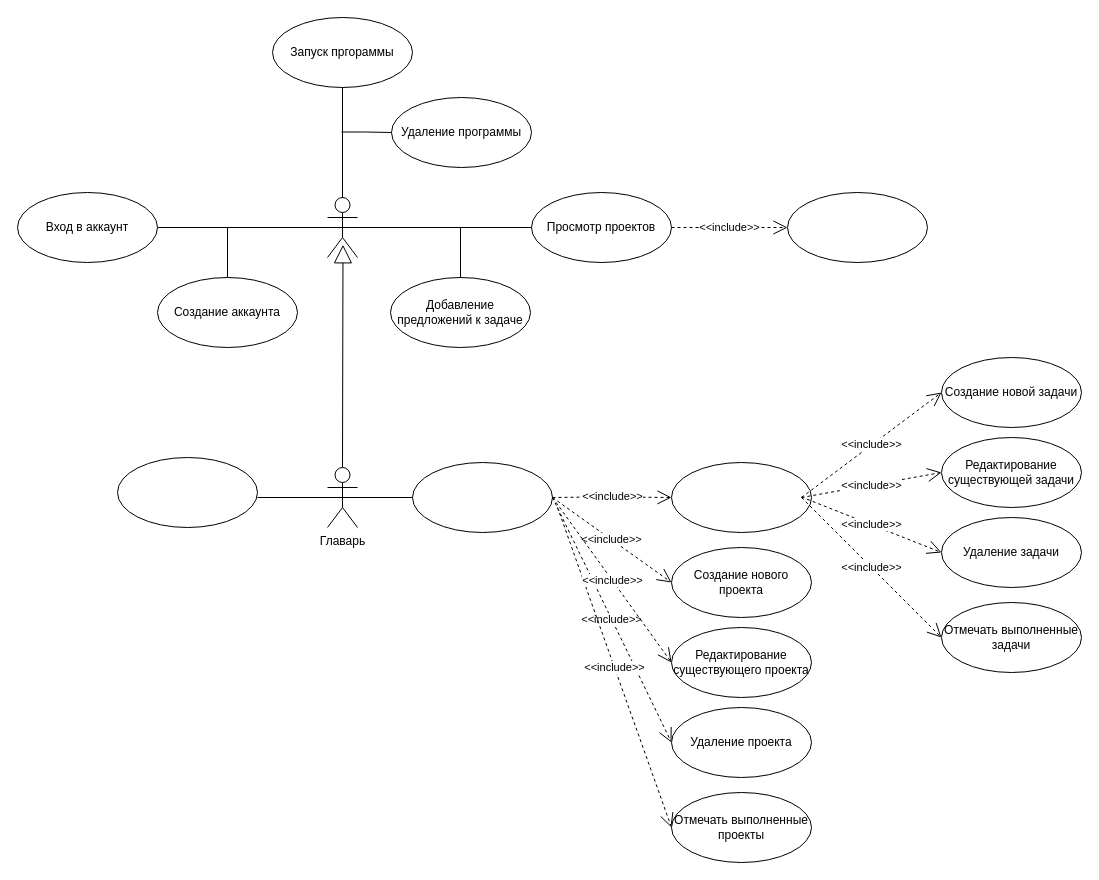
Some shapes in this 1099 by 880 pixel diagram are drawn without their labels. The shapes that lost their labels are listed below. From the top down, each one's centre as x and y in pixels, then its label:
At (342,227): "Шестёрка".
At (857,227): "Просмотр задач".
At (187,492): "Управление ролями и правами доступа пользователей".
At (482,497): "Работа с проектом".
At (741,497): "Работа с задачей".
